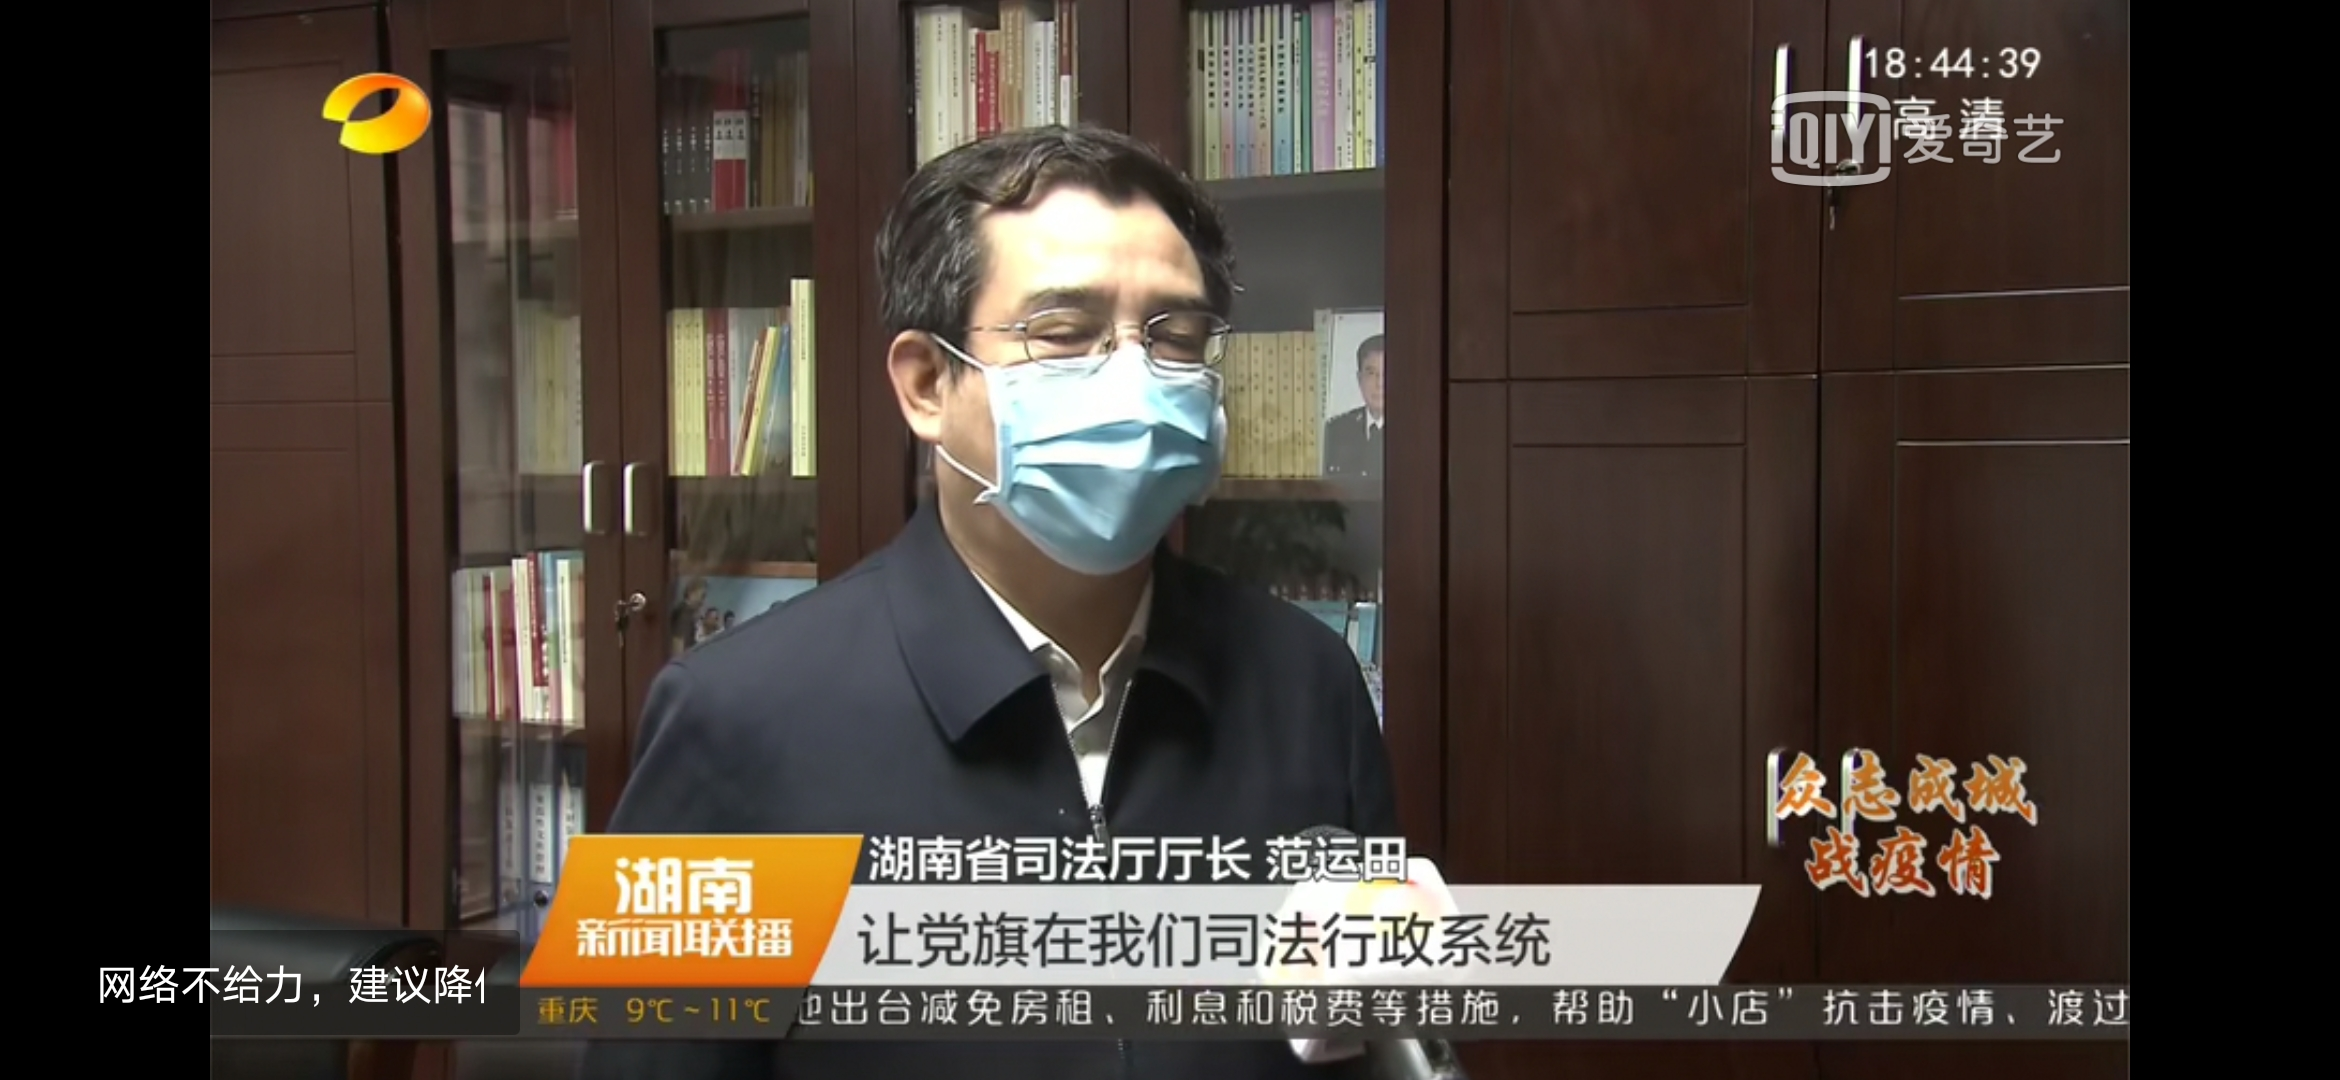correctlyWear: (889, 289, 1246, 583)
